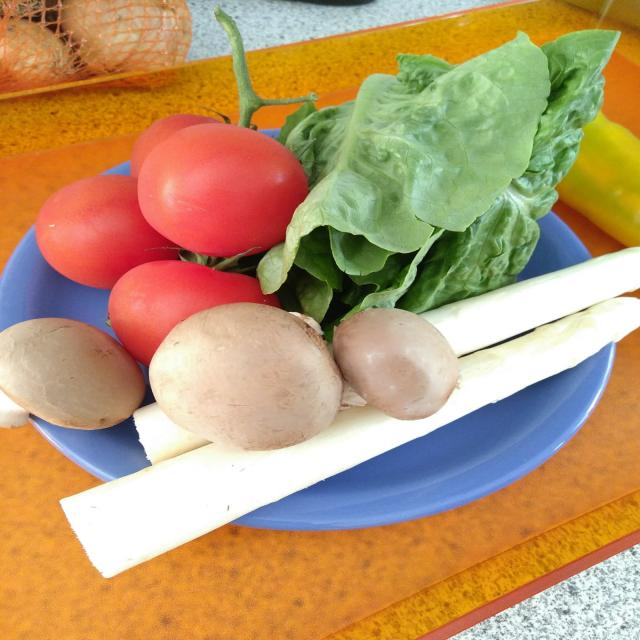Asparagus spear: (59, 295, 640, 577), (135, 242, 640, 468)
Mushroom: (150, 302, 338, 454), (0, 314, 148, 432), (319, 305, 461, 421)
Pepper: (540, 80, 640, 252)
Potato: (56, 0, 193, 82), (0, 18, 82, 91)
Salad: (258, 26, 623, 325)
Tomato: (141, 125, 308, 253), (113, 261, 278, 366), (36, 174, 182, 283), (127, 108, 275, 186)
